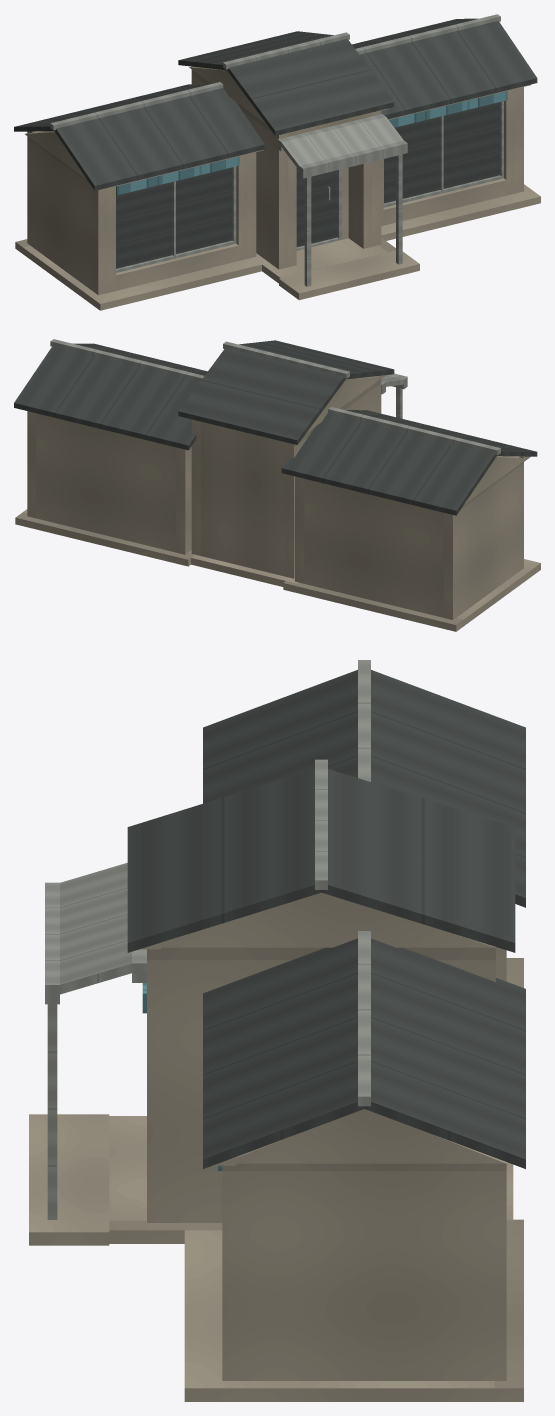
3 renders of one model, top to bottom at view 1: azimuth 30°, elevation 25°; view 2: azimuth 150°, elevation 25°; view 3: azimuth 270°, elevation 25°, orthographic. The views are drawn at different scales.
Parts seen in each view (by area): view 1: suva; view 2: suva; view 3: suva.
Part boxes in pixels (x1,y1,x2,y2): suva: (14,14,540,310); suva: (14,339,540,631); suva: (29,660,525,1401).
Bounding box in the file's own units: 8.6 × 3.37 × 4.14.
1 material, 1 textured.
